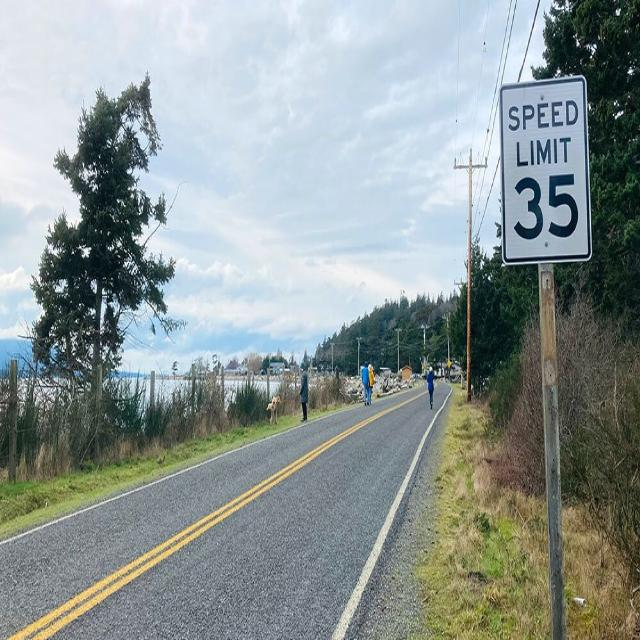speedLimit35: (499, 78, 588, 260)
